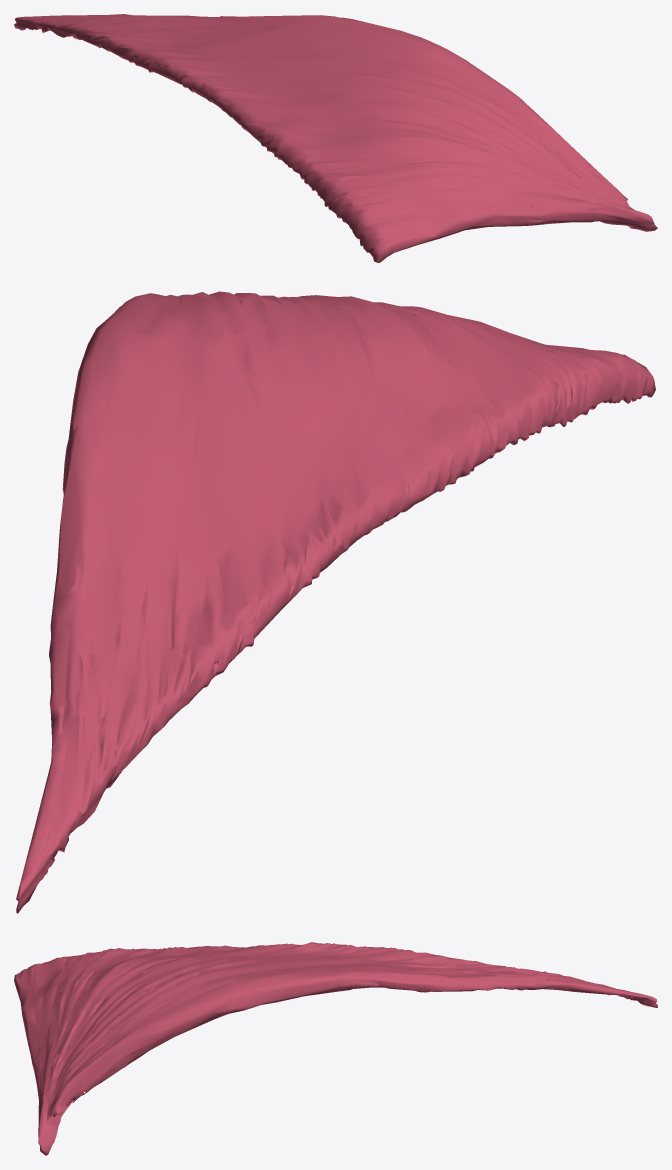
The picture shows the model from 3 angles, top to bottom: view 1: azimuth 30°, elevation 25°; view 2: azimuth 150°, elevation 25°; view 3: azimuth 270°, elevation 25°; orthographic projection. The views are drawn at different scales.
Visible parts, largest first — view 1: 左侧斜方肌降部; view 2: 左侧斜方肌降部; view 3: 左侧斜方肌降部.
Boxes of the visible parts, x1,y1,x2,y2 form: 左侧斜方肌降部: (14,14,657,262); 左侧斜方肌降部: (16,291,655,913); 左侧斜方肌降部: (14,942,657,1155).
Size of the model in its own units: 0.2045 by 0.0899 by 0.4335.
